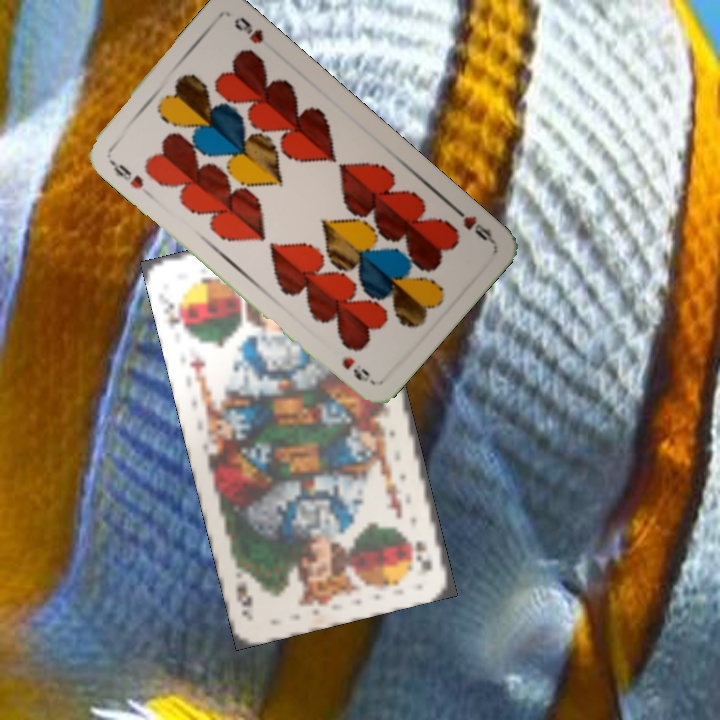H9: (447, 200, 496, 245), (104, 151, 147, 192)
SK: (410, 536, 436, 575), (159, 292, 184, 331)
